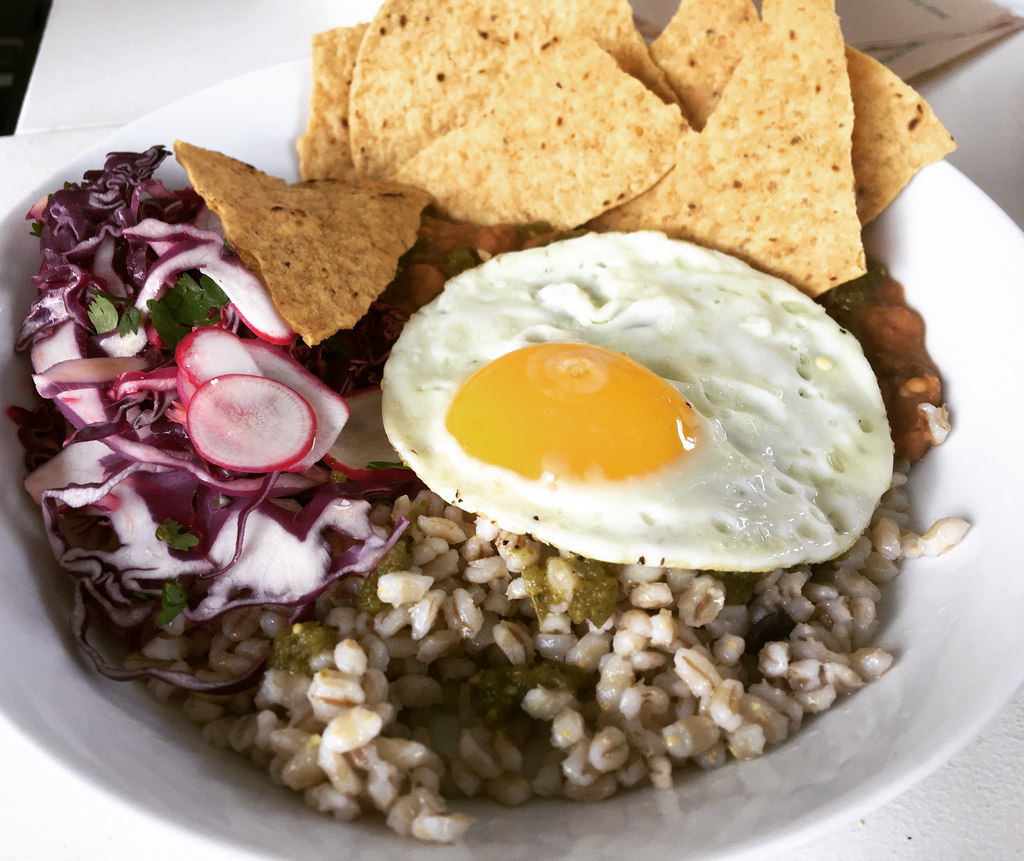fried egg: (409, 219, 899, 563)
plain rice: (293, 630, 796, 766)
